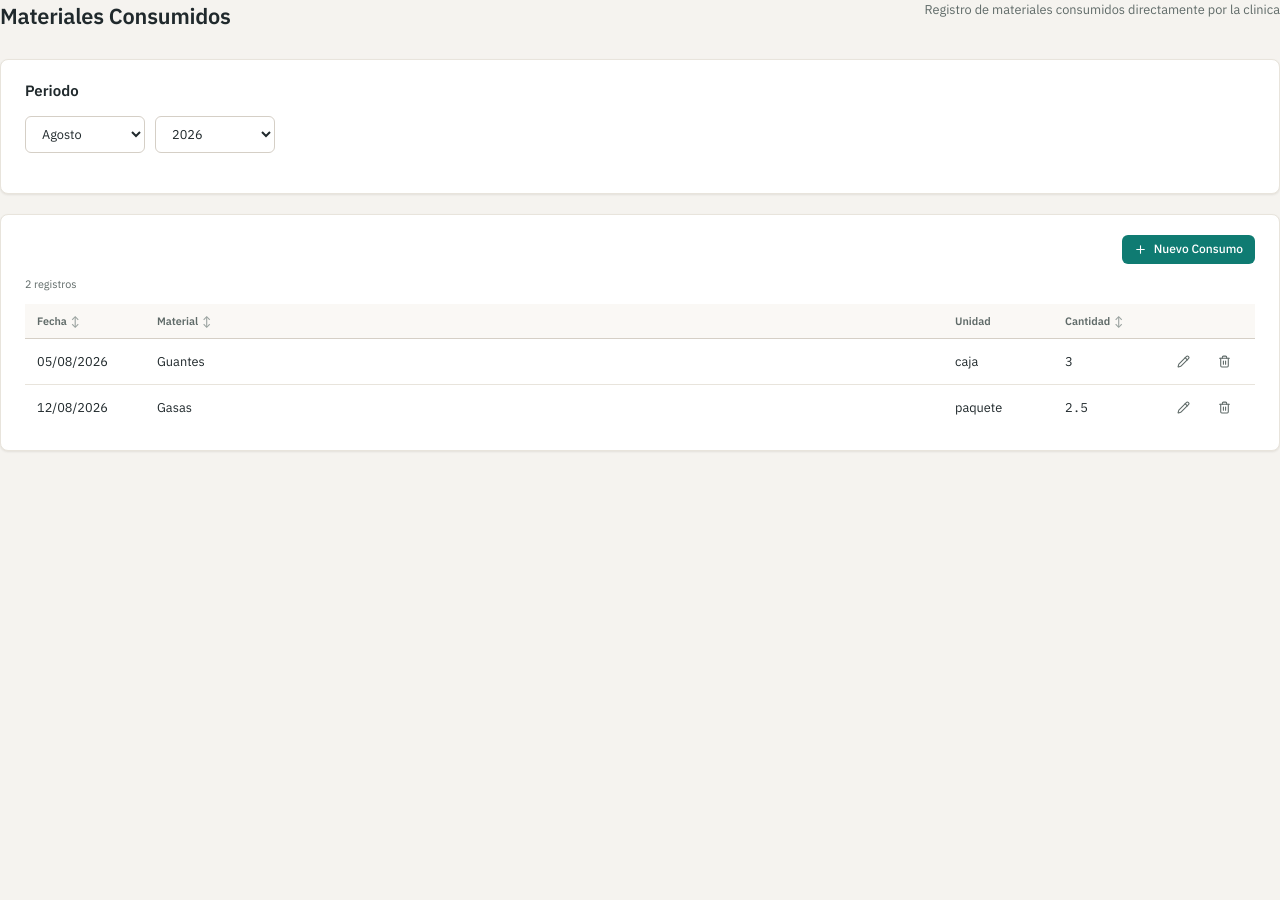
Consumos › abre el modal de nuevo consumo al hacer click en el boton
Click the button "Nuevo Consumo".
click(1188, 250)  # box left=1122, top=235, right=1255, bottom=264
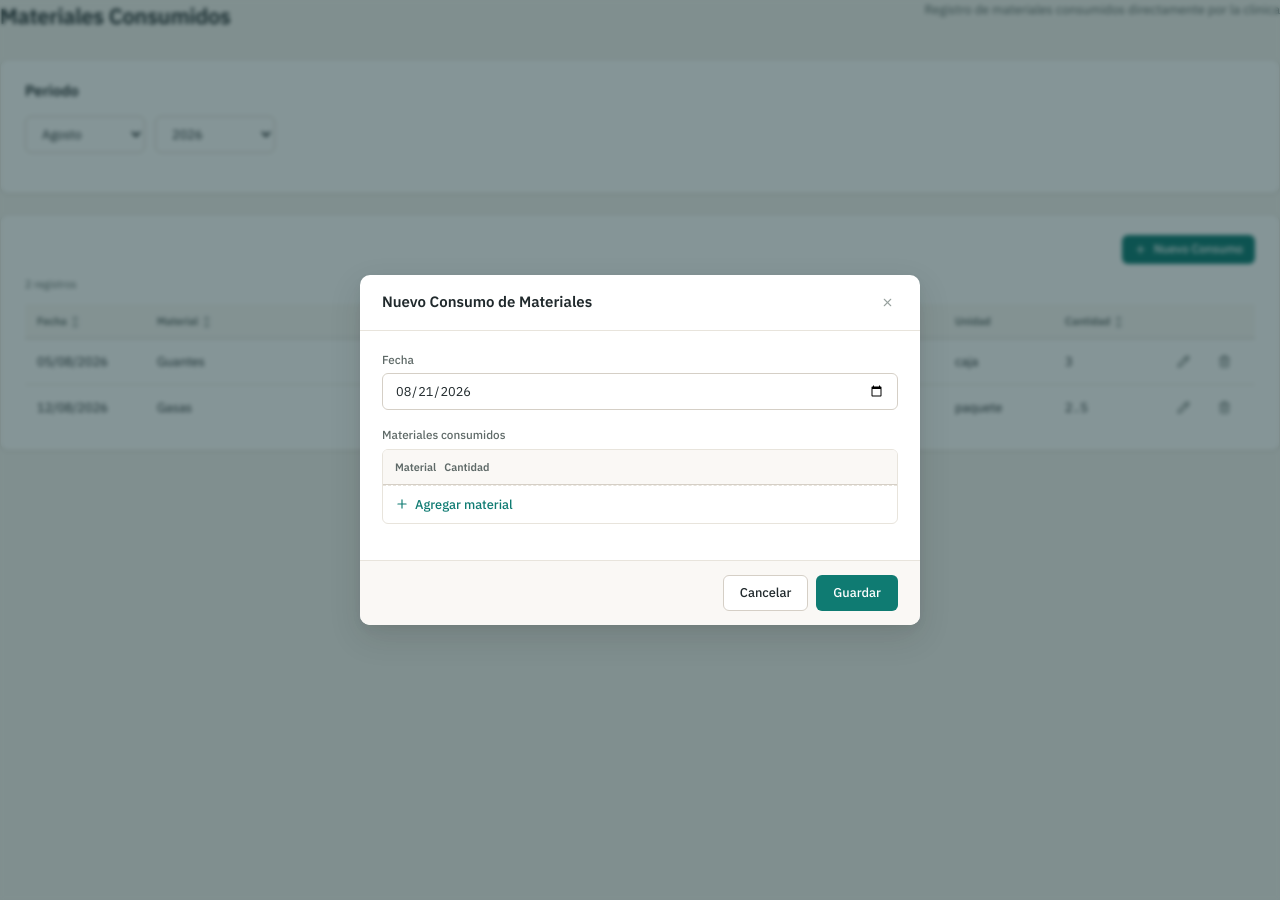
Expected: the heading "Nuevo Consumo de Materiales" is shown, left=382, top=291, right=592, bottom=314
Expected: the button "Agregar material" is shown, left=383, top=485, right=897, bottom=523
